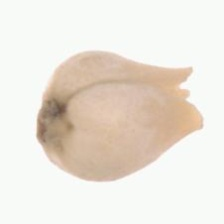L1: (174, 65, 204, 136), (36, 90, 59, 151)
L2: (37, 51, 203, 183)
